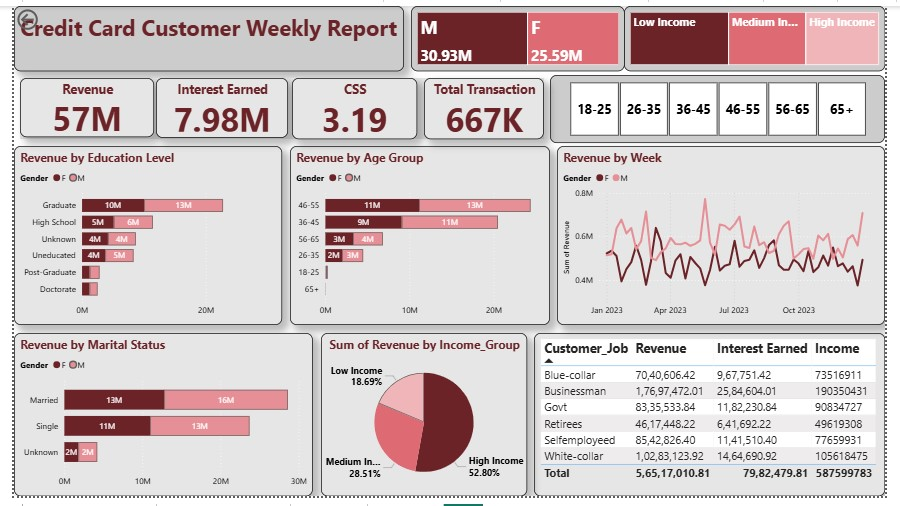

Layout of this report page (visuals, bound fields, positions):
{"tool":"powerbi","page":{"name":"Customer Report","canvas":[1280,720],"ordinal":0},"visuals":[{"type":"textbox","box":[0,0,573.1,95.5],"z":0},{"type":"card","title":"Revenue","fields":{"Values":["Sum(CreditCard.Revenue)"]},"box":[8.8,105.8,196.9,86.7],"z":0,"group":"g1"},{"type":"card","title":"Interest Earned","fields":{"Values":["Sum(CreditCard.Interest_Earned)"]},"box":[208.6,105.8,194,88.2],"z":1000,"group":"g1"},{"type":"barChart","title":"Revenue by Education Level","fields":{"Y":["Sum(CreditCard.Revenue)"],"Category":["customer.Education_Level"],"Series":["customer.Gender"]},"box":[0,205.7,393.8,263],"z":1000},{"type":"card","title":"CSS","fields":{"Values":["Avg(customer.Cust_Satisfaction_Score)"]},"box":[408.5,106.2,183.7,89.6],"z":2000,"group":"g1"},{"type":"barChart","title":"Revenue by Age Group","fields":{"Y":["Sum(CreditCard.Revenue)"],"Category":["customer.Age_Group"],"Series":["customer.Gender"]},"box":[405.6,205.7,382,263],"z":2000},{"type":"slicer","fields":{"Values":["customer.Age_Group"]},"box":[787.6,101.4,492.2,99.9],"z":3000},{"type":"card","title":"Total Transaction","fields":{"Values":["Sum(CreditCard.Total_Trans_Vol)"]},"box":[602.4,106.2,176.3,89.6],"z":3000,"group":"g1"},{"type":"treemap","title":"Revenue by Gender","fields":{"Group":["customer.Gender"],"Values":["Sum(CreditCard.Revenue)"]},"box":[583.3,0,314.4,95.5],"z":4000},{"type":"barChart","title":"Revenue by Marital Status","fields":{"Category":["customer.Marital_Status"],"Series":["customer.Gender"],"Y":["Sum(CreditCard.Revenue)"]},"box":[0,480.5,439.3,239.5],"z":5000},{"type":"treemap","fields":{"Group":["customer.Income_Group"],"Values":["Sum(CreditCard.Annual_Fees)"]},"box":[896.1,0,383.5,95.5],"z":6000},{"type":"tableEx","fields":{"Values":["customer.Customer_Job","Sum(CreditCard.Revenue)","Sum(CreditCard.Interest_Earned)","Sum(customer.Income)"]},"box":[764.1,480.5,515.8,239.5],"z":7000},{"type":"pieChart","fields":{"Category":["customer.Income_Group"],"Y":["Sum(CreditCard.Revenue)"]},"box":[451.1,480.5,302.7,239.5],"z":8000},{"type":"group","id":"g1","title":"Score Card","box":[8.8,105.8,770,89.6],"z":9000},{"type":"lineChart","title":"Revenue by Week","fields":{"Y":["Sum(CreditCard.Revenue)"],"Series":["customer.Gender"],"Category":["CreditCard.Week_Start_Date.Variation.Date Hierarchy.Year","CreditCard.Week_Start_Date.Variation.Date Hierarchy.Quarter","CreditCard.Week_Start_Date.Variation.Date Hierarchy.Month","CreditCard.Week_Start_Date.Variation.Date Hierarchy.Day"]},"box":[797.9,205.7,482,263],"z":10000},{"type":"actionButton","box":[0,0,100,40],"z":11000}]}

Visuals, with their boxes in screenshot pixels (x1, y1, x2, y2), scaled from the page's 1280x720 canvas onto the 900x506 screenshot:
textbox: pyautogui.locateOnScreen(0, 0, 403, 67)
"Revenue" card: pyautogui.locateOnScreen(6, 74, 145, 135)
"Interest Earned" card: pyautogui.locateOnScreen(147, 74, 283, 136)
"Revenue by Education Level" barChart: pyautogui.locateOnScreen(0, 145, 277, 329)
"CSS" card: pyautogui.locateOnScreen(287, 75, 416, 138)
"Revenue by Age Group" barChart: pyautogui.locateOnScreen(285, 145, 554, 329)
slicer - customer.Age_Group: pyautogui.locateOnScreen(554, 71, 899, 141)
"Total Transaction" card: pyautogui.locateOnScreen(424, 75, 548, 138)
"Revenue by Gender" treemap: pyautogui.locateOnScreen(410, 0, 631, 67)
"Revenue by Marital Status" barChart: pyautogui.locateOnScreen(0, 338, 309, 505)
treemap - customer.Income_Group x Sum(CreditCard.Annual_Fees): pyautogui.locateOnScreen(630, 0, 899, 67)
tableEx - customer.Customer_Job x Sum(CreditCard.Revenue): pyautogui.locateOnScreen(537, 338, 899, 505)
pieChart - customer.Income_Group x Sum(CreditCard.Revenue): pyautogui.locateOnScreen(317, 338, 530, 505)
"Score Card" group: pyautogui.locateOnScreen(6, 74, 548, 137)
"Revenue by Week" lineChart: pyautogui.locateOnScreen(561, 145, 899, 329)
actionButton: pyautogui.locateOnScreen(0, 0, 70, 28)
